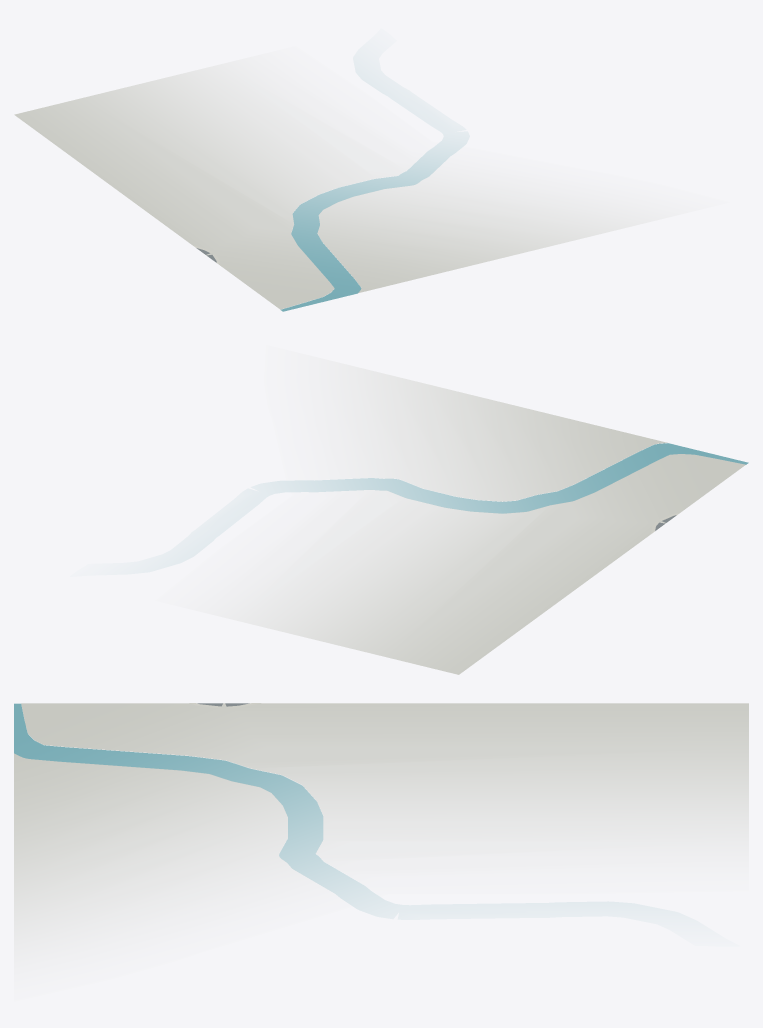
The picture shows the model from 3 angles, top to bottom: view 1: azimuth 30°, elevation 25°; view 2: azimuth 150°, elevation 25°; view 3: azimuth 270°, elevation 25°; orthographic projection. The views are drawn at different scales.
Parts seen in each view (by area): view 1: city; view 2: city; view 3: city.
Part boxes in pixels (box(x1,y1,x2,y2)): city: box(14, 60, 666, 311); city: box(216, 361, 748, 674); city: box(14, 703, 748, 960).
Size of the model in its own units: 500 by 0.4 by 500.
